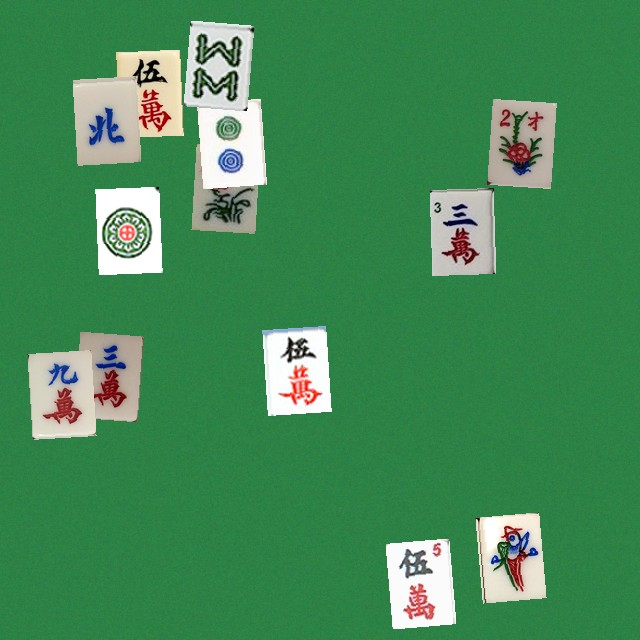tile: (475, 512, 539, 598), (116, 49, 180, 135), (191, 144, 255, 230), (73, 331, 137, 417), (27, 350, 91, 436), (385, 538, 449, 624), (72, 76, 136, 162), (95, 186, 159, 272), (429, 187, 493, 273), (487, 98, 551, 184), (196, 98, 260, 184), (183, 20, 247, 106), (262, 325, 326, 411)
